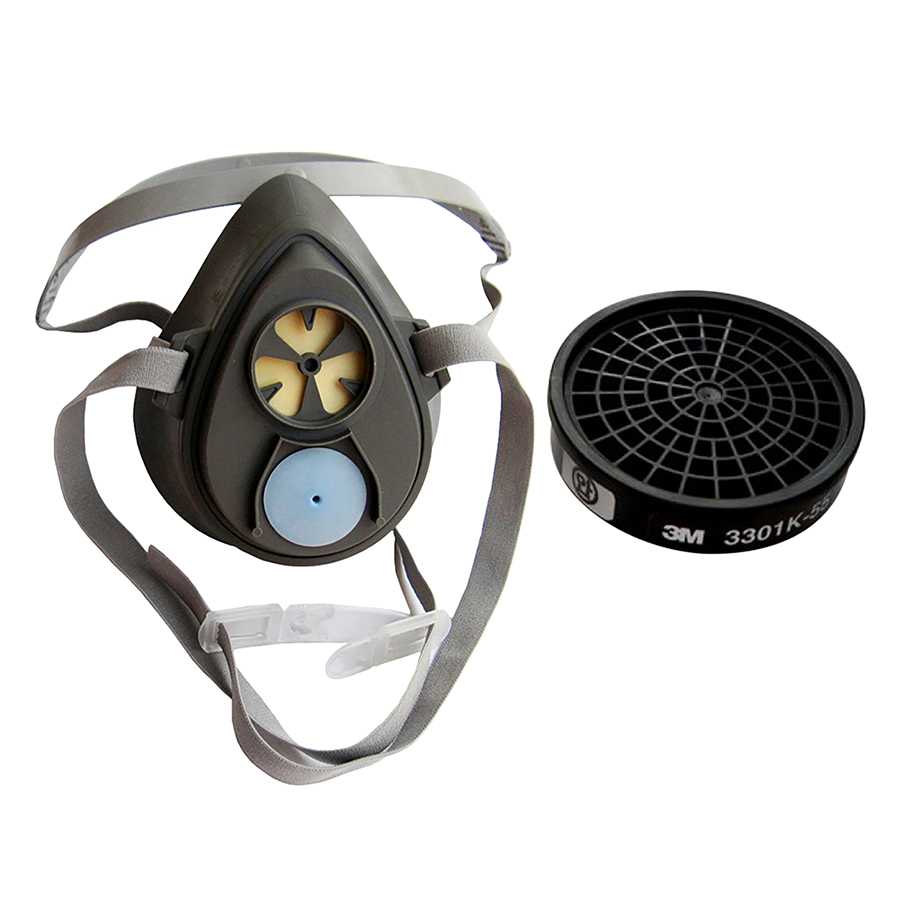3M: (660, 517, 710, 551)
